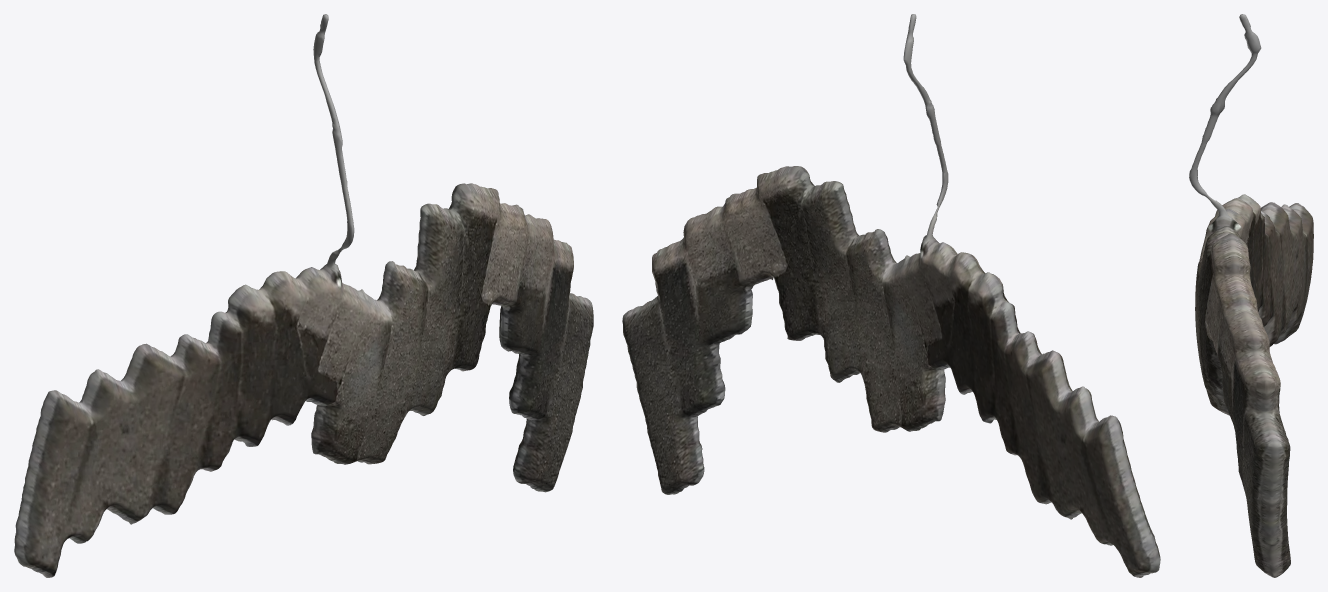
The model's file is hy3d-mov-015.glb.
3 renders of one model, left to right at view 1: azimuth 30°, elevation 25°; view 2: azimuth 150°, elevation 25°; view 3: azimuth 270°, elevation 25°, orthographic. The views are drawn at different scales.
Parts seen in each view (by area): view 1: world; view 2: world; view 3: world.
Boxes of the visible parts, x1,y1,x2,y2 form: world: (14,14,593,577); world: (622,14,1160,577); world: (1189,14,1313,577).
Bounding box in the file's own units: 2.72 × 2.51 × 0.6106.
Materials: 1 (1 with a texture image).
